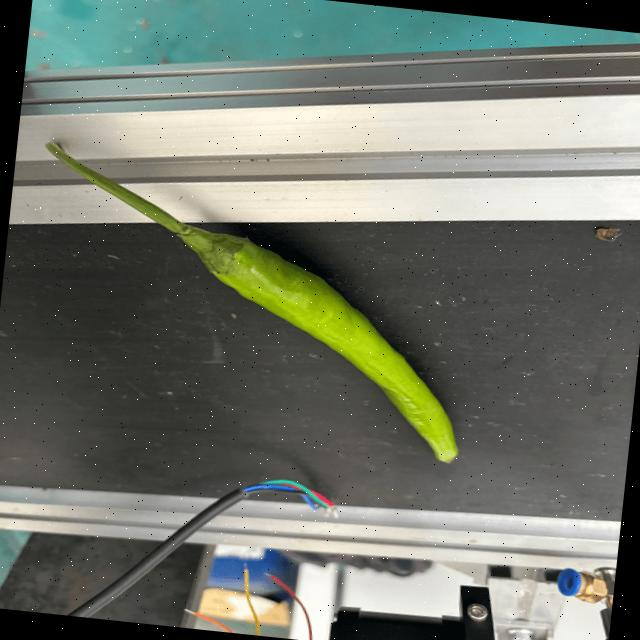chili: (195, 228, 458, 465)
